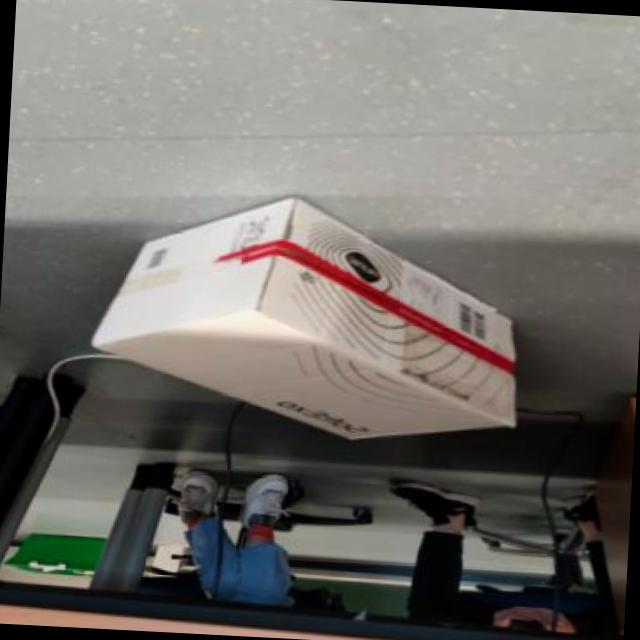box: (43, 188, 626, 483)
